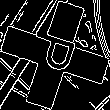P_E: (25, 30, 85, 80)
